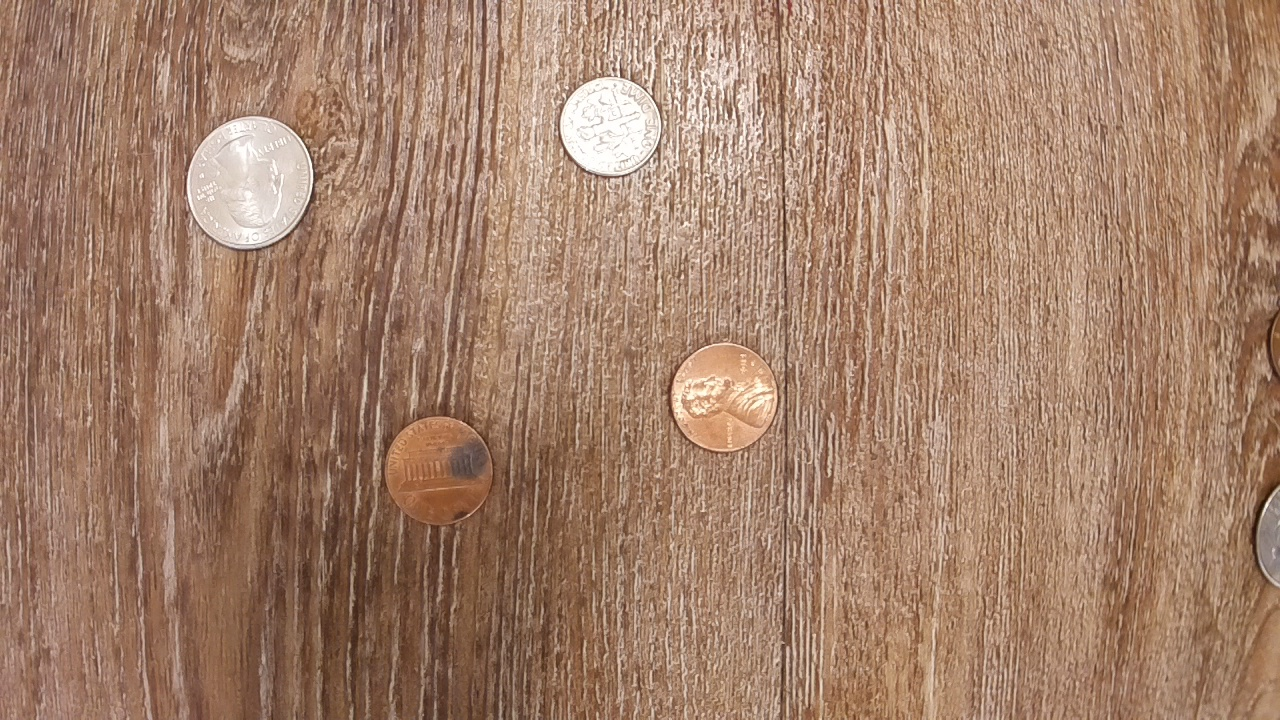dime: (554, 72, 664, 182)
penny: (666, 339, 780, 455), (381, 412, 495, 528)
quarter: (183, 113, 317, 253)
